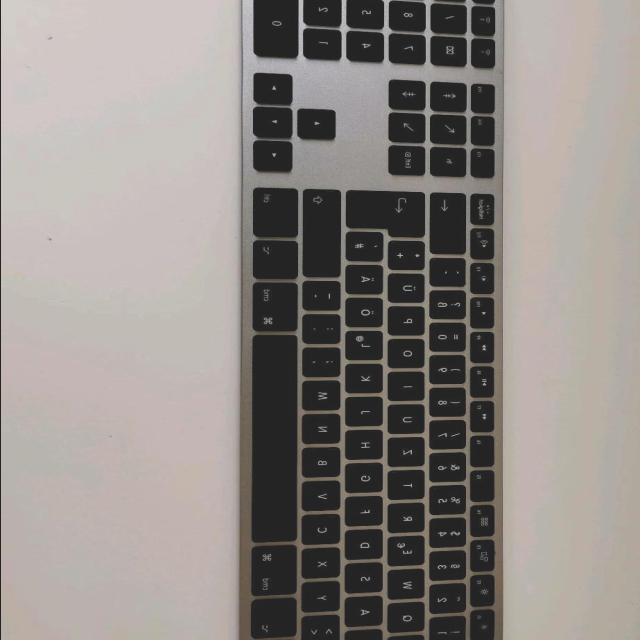0: (432, 324, 470, 354)
1: (432, 619, 470, 640)
2: (432, 586, 470, 616)
3: (432, 553, 470, 583)
4: (433, 520, 470, 550)
5: (432, 487, 470, 517)
6: (432, 454, 470, 484)
7: (432, 422, 470, 451)
8: (432, 389, 469, 419)
9: (432, 357, 468, 386)
a: (347, 599, 387, 629)
accent: (433, 261, 470, 289)
ae: (348, 267, 388, 297)
alt-left: (252, 600, 300, 640)
altgr-right: (252, 240, 299, 282)
b: (305, 450, 345, 480)
c: (304, 517, 344, 547)
caret: (432, 634, 469, 640)
comma: (305, 350, 345, 380)
d: (347, 532, 387, 562)
del: (431, 195, 469, 257)
e: (390, 539, 428, 569)
enter: (348, 193, 429, 240)
f: (348, 499, 387, 528)
g: (348, 466, 387, 496)
h: (348, 432, 387, 462)
hash: (348, 234, 388, 264)
i: (391, 374, 429, 403)
j: (349, 400, 388, 428)
k: (348, 366, 388, 396)
keyboard: (239, 0, 511, 640)
l: (348, 333, 387, 362)
less: (304, 618, 344, 640)
m: (304, 383, 344, 414)
minus: (306, 283, 345, 313)
n: (304, 417, 344, 447)
o: (390, 342, 428, 371)
oe: (348, 300, 387, 330)
p: (391, 309, 429, 338)
plus: (391, 243, 429, 272)
point: (306, 316, 345, 346)
q: (390, 605, 428, 635)
r: (390, 506, 428, 535)
s: (347, 566, 387, 596)
shift-left: (303, 629, 344, 640)
shift-lock: (347, 621, 386, 640)
shift-right: (305, 192, 345, 280)
space: (252, 337, 302, 545)
ss: (432, 292, 469, 322)
strg-left: (252, 621, 300, 640)
strg-right: (254, 188, 302, 240)
t: (391, 473, 429, 502)
tab: (389, 625, 429, 640)
u: (390, 407, 428, 437)
ue: (391, 276, 429, 306)
v: (304, 483, 344, 514)
w: (390, 572, 429, 602)
x: (304, 551, 344, 581)
y: (304, 585, 344, 615)
z: (390, 439, 428, 469)
